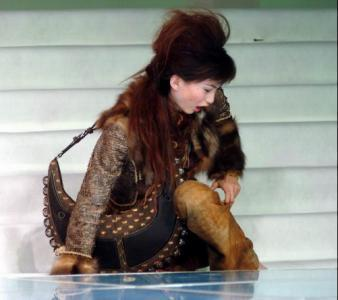Fall-Detected: (29, 0, 269, 275)
